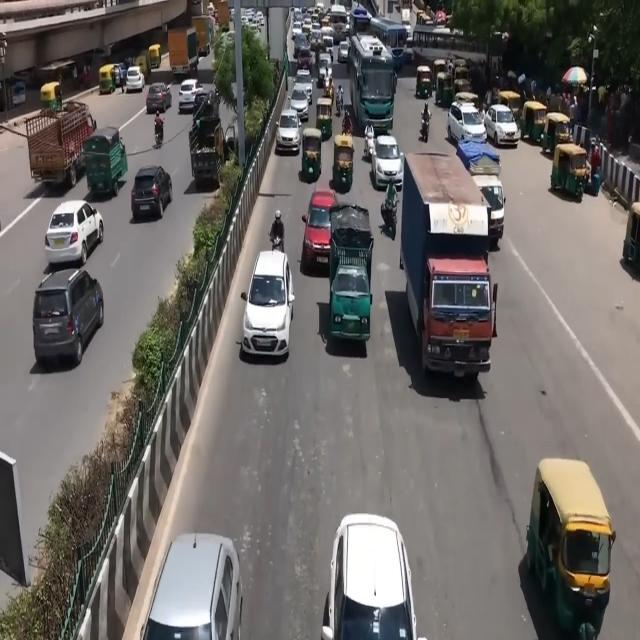auto: (526, 457, 615, 638), (550, 142, 589, 198), (541, 110, 571, 155), (333, 134, 355, 194), (522, 100, 548, 144), (301, 127, 323, 179), (316, 97, 334, 142), (40, 82, 62, 113), (436, 70, 454, 106), (99, 64, 118, 95), (416, 64, 432, 100), (134, 50, 152, 78), (148, 44, 162, 70)
bike-auto: (269, 210, 284, 251), (384, 180, 398, 217), (364, 121, 375, 159), (420, 108, 432, 142), (154, 111, 164, 147), (342, 107, 353, 137)
